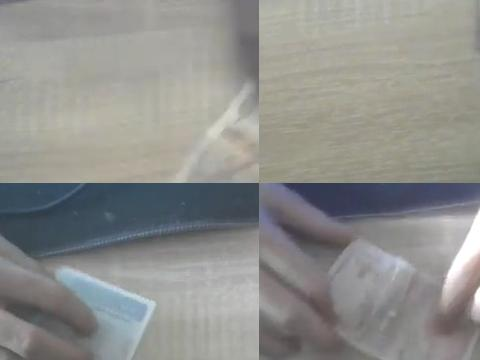10leva: (171, 80, 259, 183)
20leva: (49, 267, 157, 360)
5leva: (314, 236, 480, 360)
